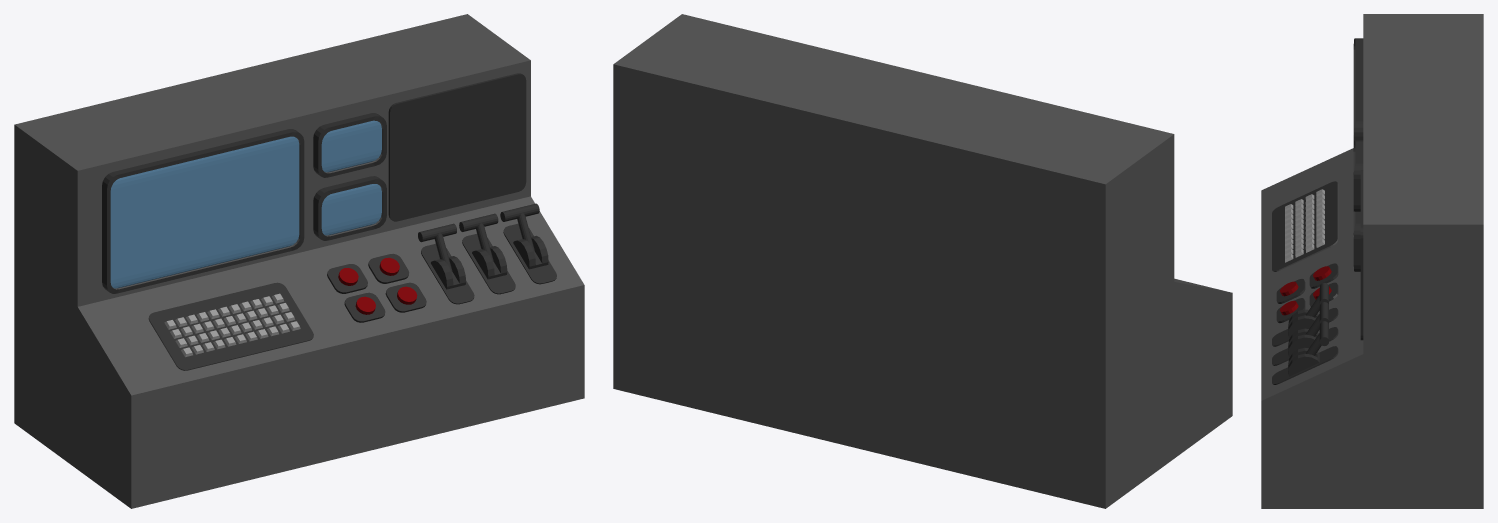
Rendered from computer.fbx.
3 renders of one model, left to right at view 1: azimuth 30°, elevation 25°; view 2: azimuth 150°, elevation 25°; view 3: azimuth 270°, elevation 25°, orthographic. The views are drawn at different scales.
Parts seen in each view (by area): view 1: Cube; view 2: Cube; view 3: Cube.
Part boxes in pixels (<box>): Cube: <box>14,14,584,508</box>; Cube: <box>613,14,1232,508</box>; Cube: <box>1261,14,1483,508</box>.
Size of the model in its own units: 328 by 207 by 147.
